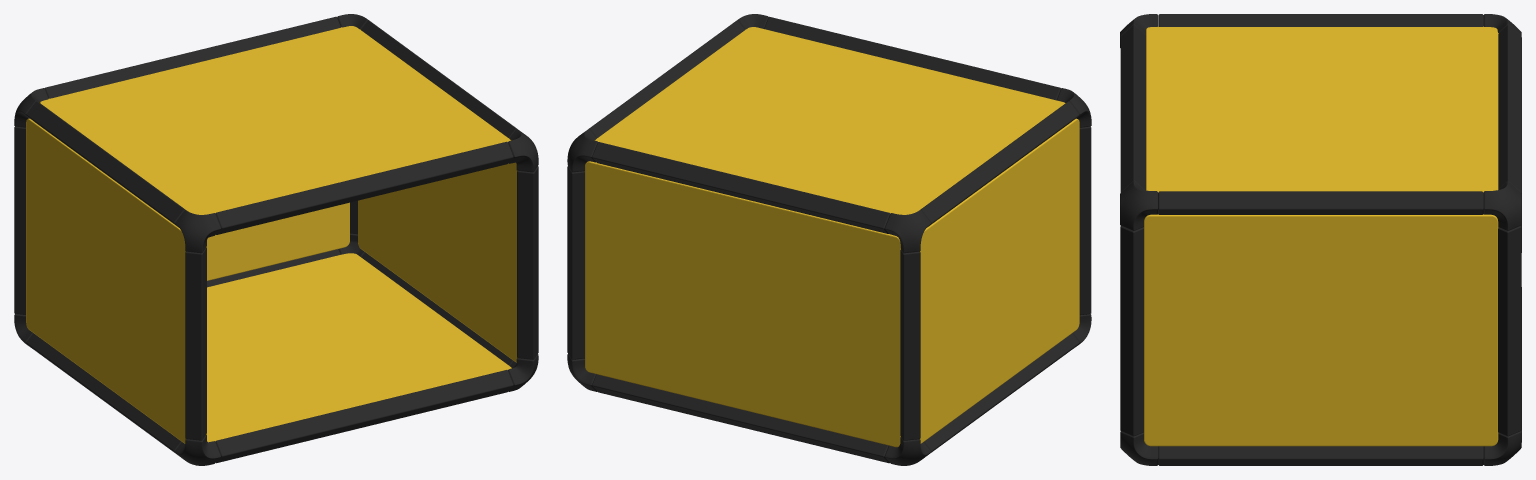
The picture shows the model from 3 angles, left to right: view 1: azimuth 30°, elevation 25°; view 2: azimuth 150°, elevation 25°; view 3: azimuth 270°, elevation 25°; orthographic projection. The views are drawn at different scales.
Visible parts, largest first — view 1: 374x329x229; view 2: 374x329x229; view 3: 374x329x229.
Part boxes in pixels (<box>): 374x329x229: <box>14,14,538,465</box>; 374x329x229: <box>567,14,1091,465</box>; 374x329x229: <box>1120,14,1521,465</box>.
Bounding box in the file's own units: 0.4517 × 0.3066 × 0.4063.
